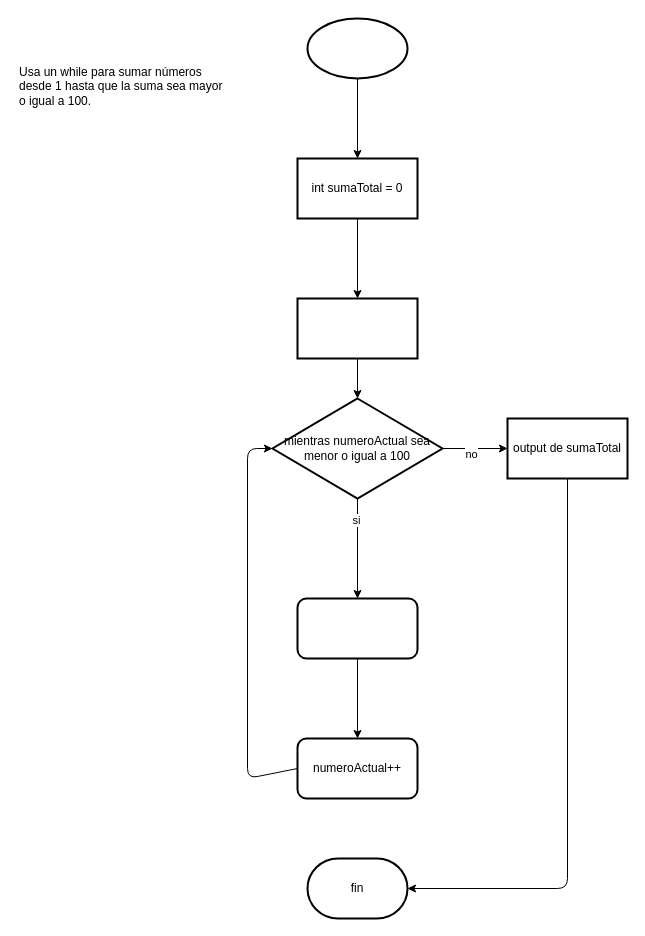
Image size: 645x936. Some labels were removed from this diagram. The shapes that lost their labels are listed below. From the top down, each one's box as (x1, y1, x2, y2) in pixels, then its label:
(296, 297, 418, 359): int numeroActual = 1
(296, 597, 418, 659): sumaTotal += numeroActual
